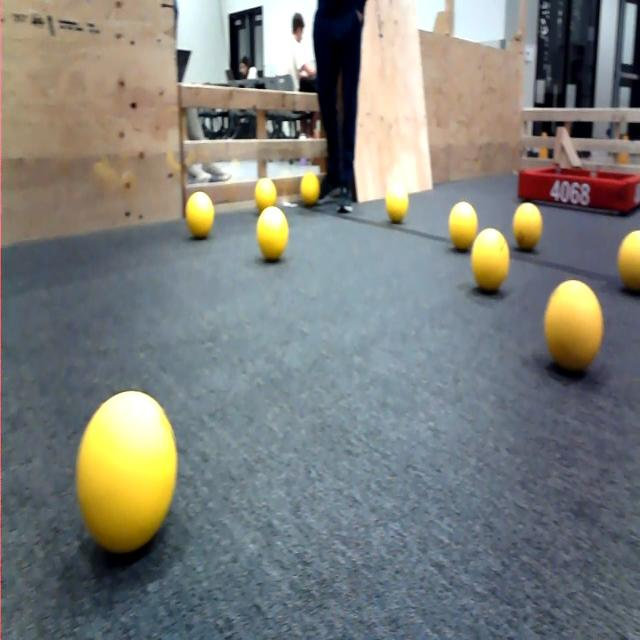Bumper: (512, 142, 640, 220)
fuel: (64, 372, 198, 557), (549, 277, 601, 382), (465, 208, 517, 302), (250, 188, 303, 276), (378, 160, 423, 239), (445, 186, 486, 270), (508, 185, 550, 252), (608, 223, 640, 310), (182, 178, 220, 248), (296, 166, 333, 224), (252, 167, 284, 226)
